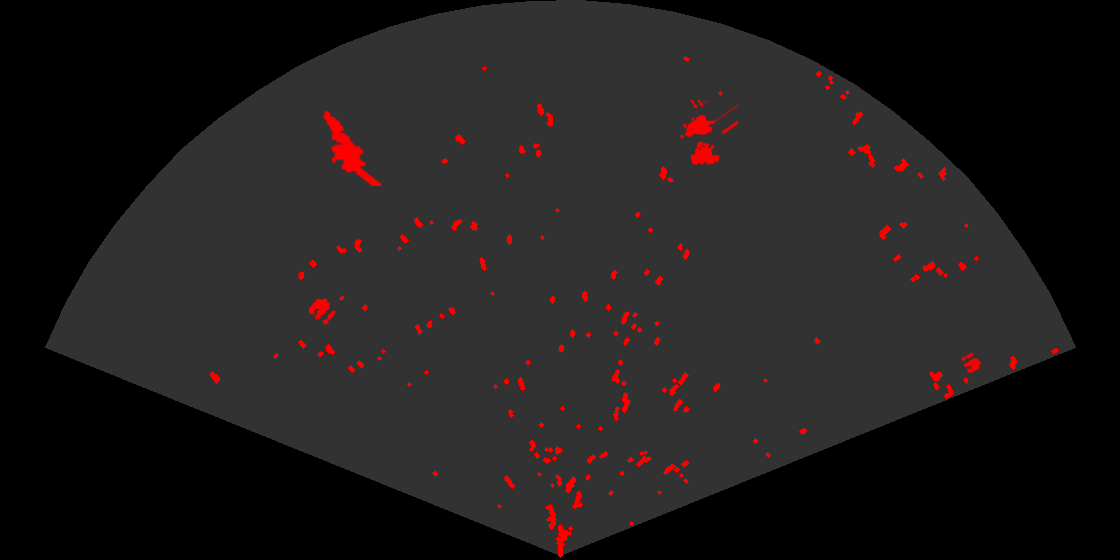ball: (307, 297, 337, 326), (960, 351, 983, 375)
cage: (678, 100, 738, 167)
frogman: (321, 109, 381, 186)
